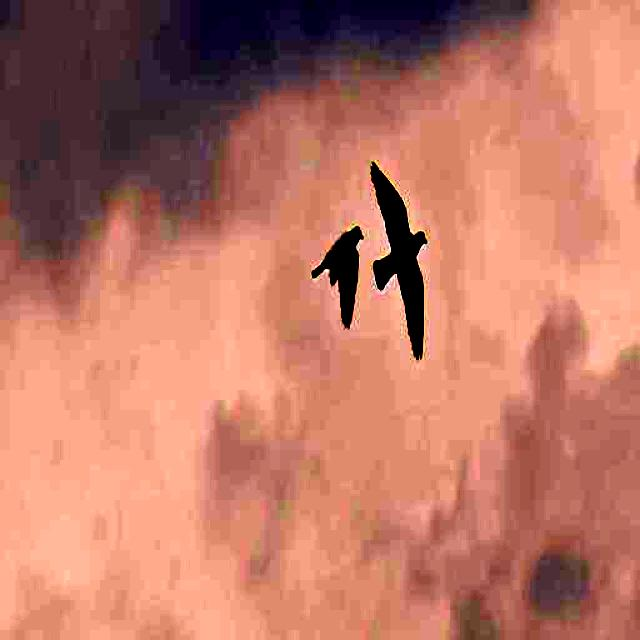airplane: (360, 140, 441, 405), (305, 202, 368, 335)
